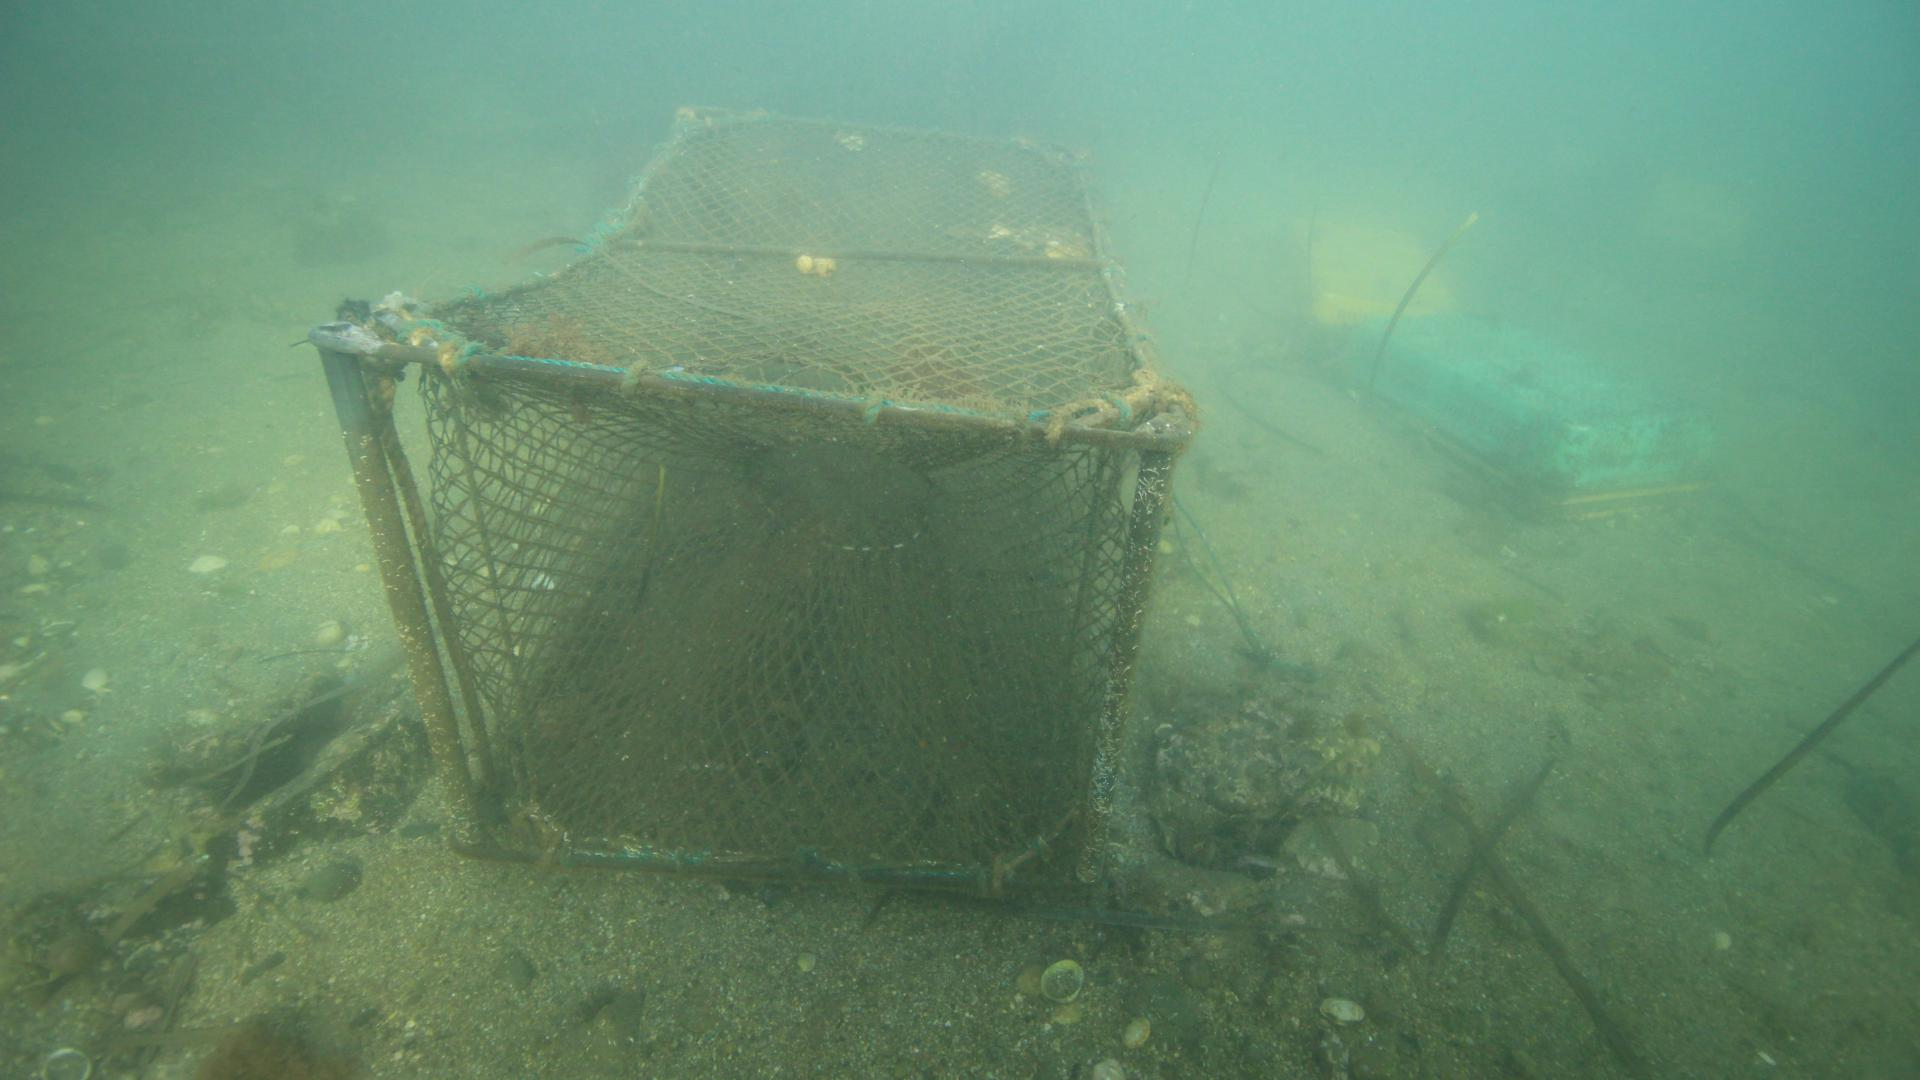rectangular fish trap: (306, 100, 1197, 901)
